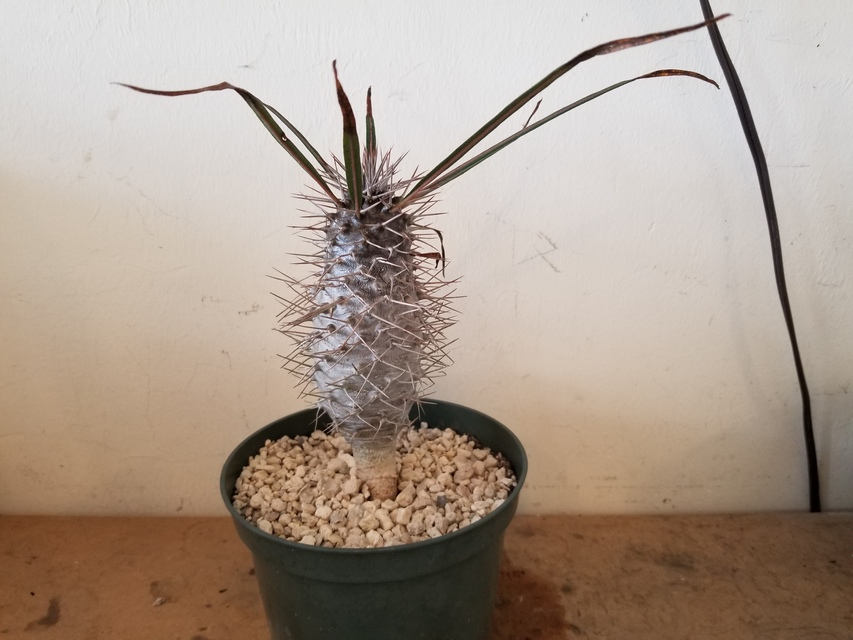Pachypodium geayi: (210, 60, 569, 492)
